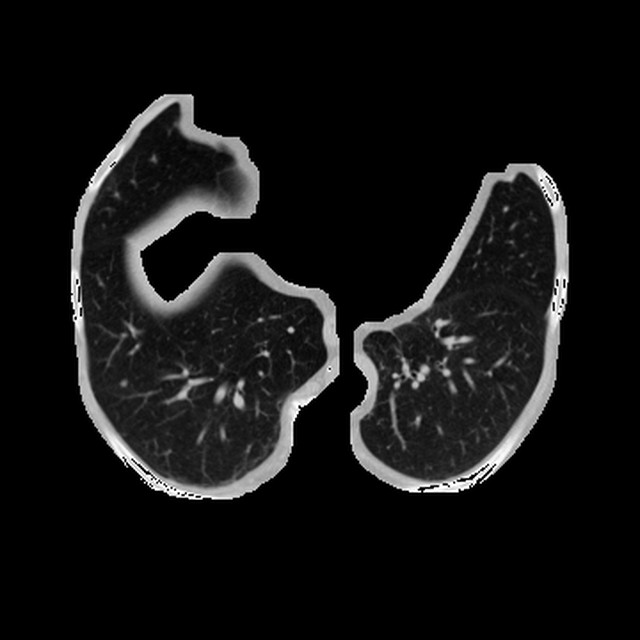PN: (119, 379, 126, 386)
